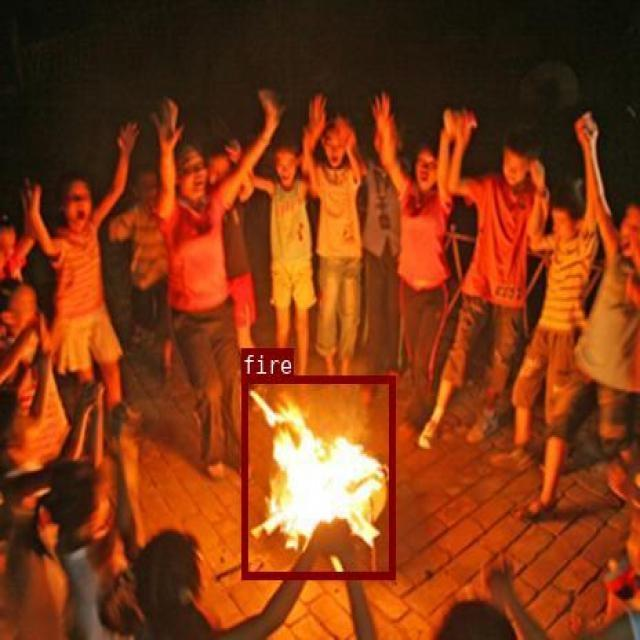fire: (240, 375, 394, 577)
